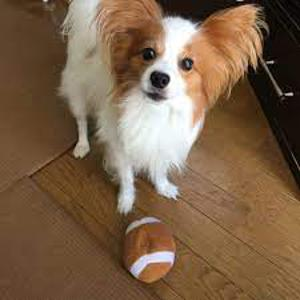yell: (58, 0, 261, 214)
